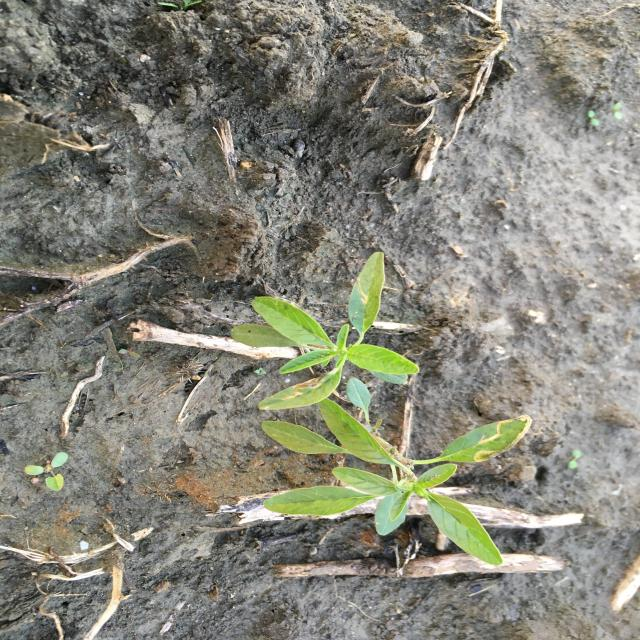Waterhemp: (258, 376, 533, 568), (229, 250, 422, 412)
